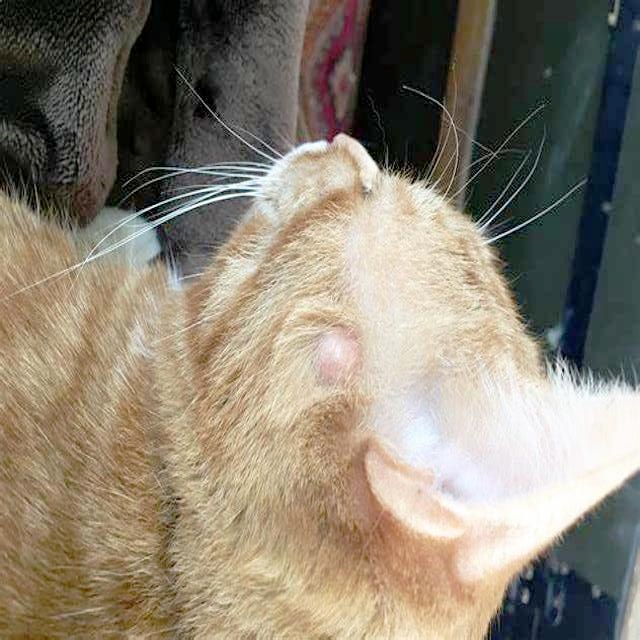lump_and_bump: (307, 327, 367, 389)
